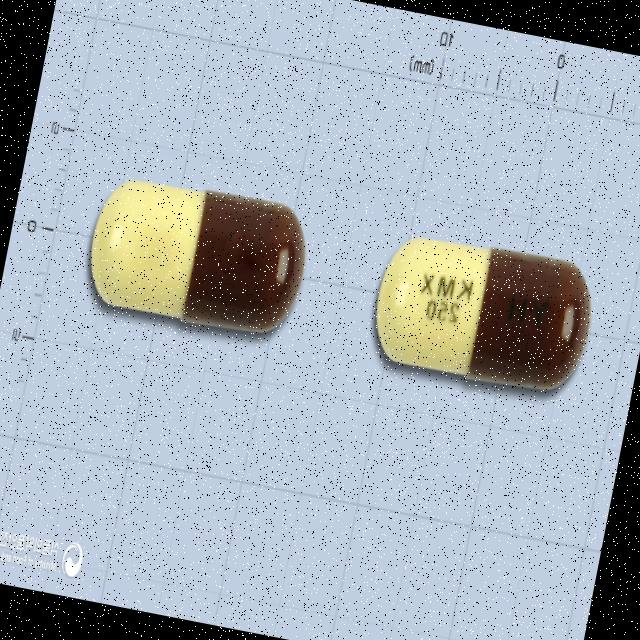Kymoxin Cap: (365, 225, 602, 401), (80, 170, 316, 343)
